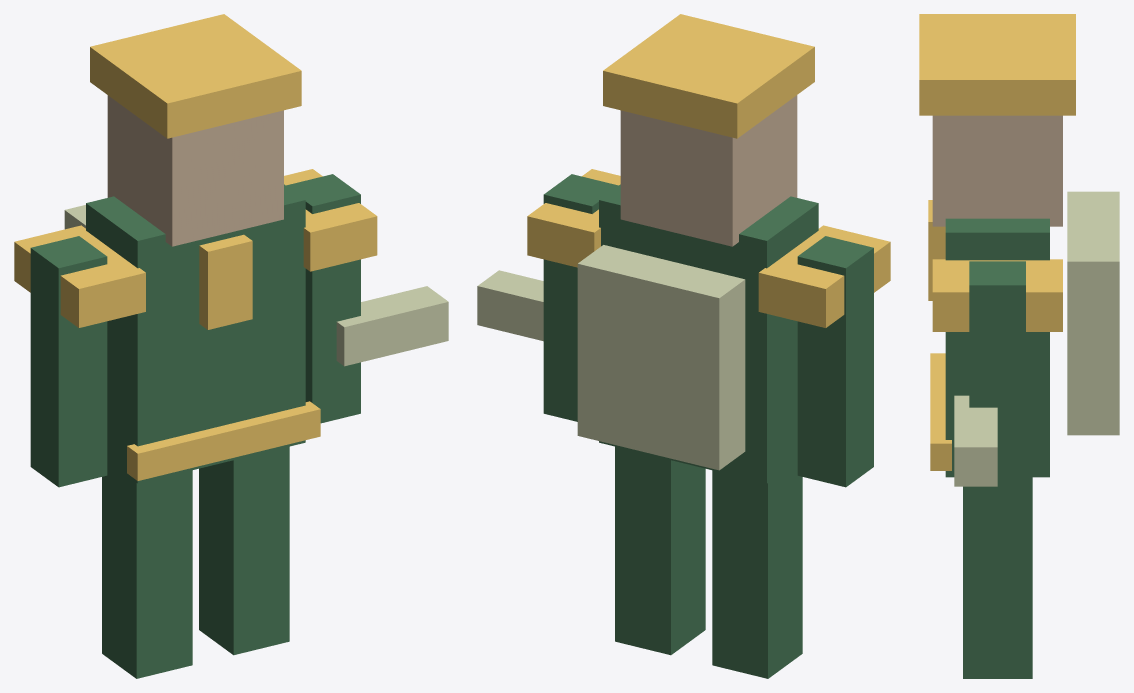
The model's file is 12_tovin_gearmantle_cartographer_near.glb.
The picture shows the model from 3 angles, left to right: view 1: azimuth 30°, elevation 25°; view 2: azimuth 150°, elevation 25°; view 3: azimuth 270°, elevation 25°; orthographic projection.
Visible parts, largest first — view 1: Tovin Gearmantle, Cartographer near; view 2: Tovin Gearmantle, Cartographer near; view 3: Tovin Gearmantle, Cartographer near.
Boxes of the visible parts, x1,y1,x2,y2 form: Tovin Gearmantle, Cartographer near: (14,14,448,678); Tovin Gearmantle, Cartographer near: (477,14,890,678); Tovin Gearmantle, Cartographer near: (919,14,1119,678).
Bounding box in the file's own units: 1.06 × 1.56 × 0.4751.
